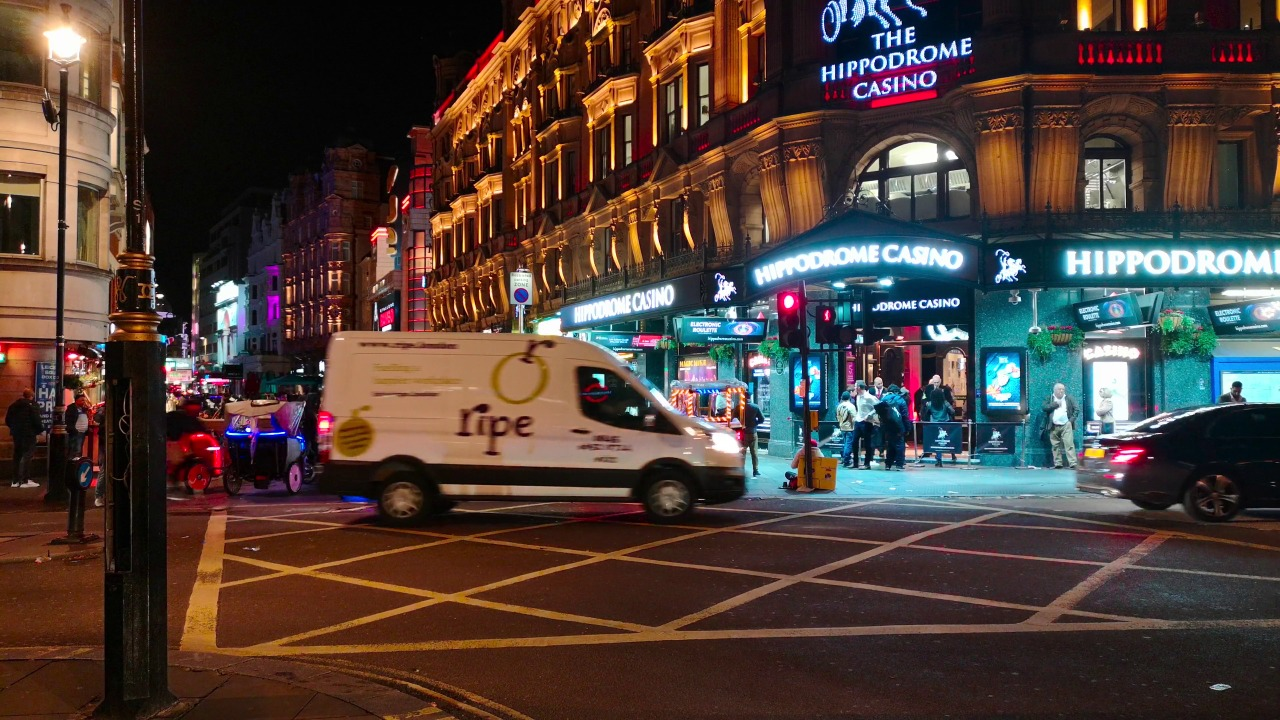car: (316, 325, 749, 524), (1072, 401, 1280, 521), (222, 398, 311, 497), (154, 407, 225, 496), (668, 376, 747, 455)
person: (5, 387, 45, 489), (1042, 381, 1086, 469), (877, 382, 910, 474), (734, 395, 768, 478), (783, 436, 833, 492), (924, 389, 958, 469), (849, 377, 877, 472), (91, 398, 109, 510), (837, 391, 855, 470), (66, 393, 87, 460), (1094, 385, 1119, 435), (1217, 378, 1248, 403), (920, 374, 954, 396), (868, 371, 886, 402), (843, 384, 858, 405)
